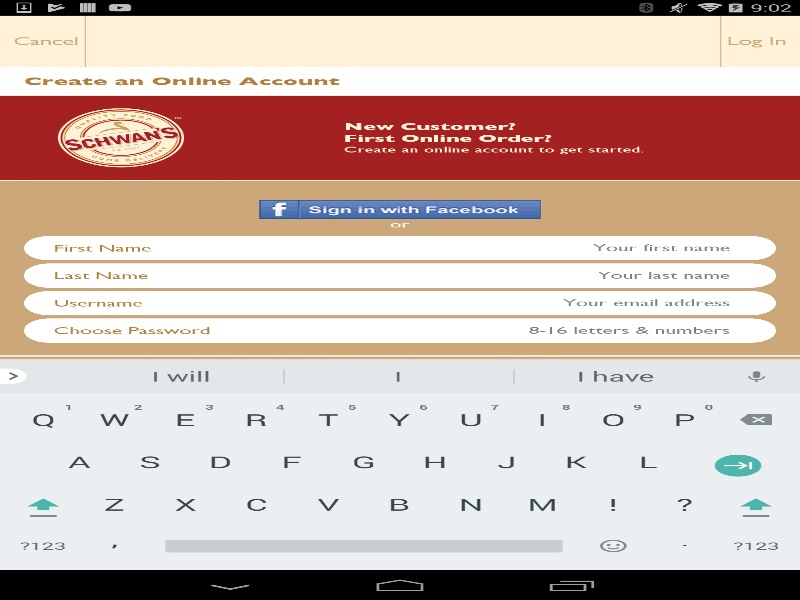Input: (257, 237, 746, 258), (257, 265, 746, 286), (257, 292, 746, 313), (347, 320, 746, 341)
